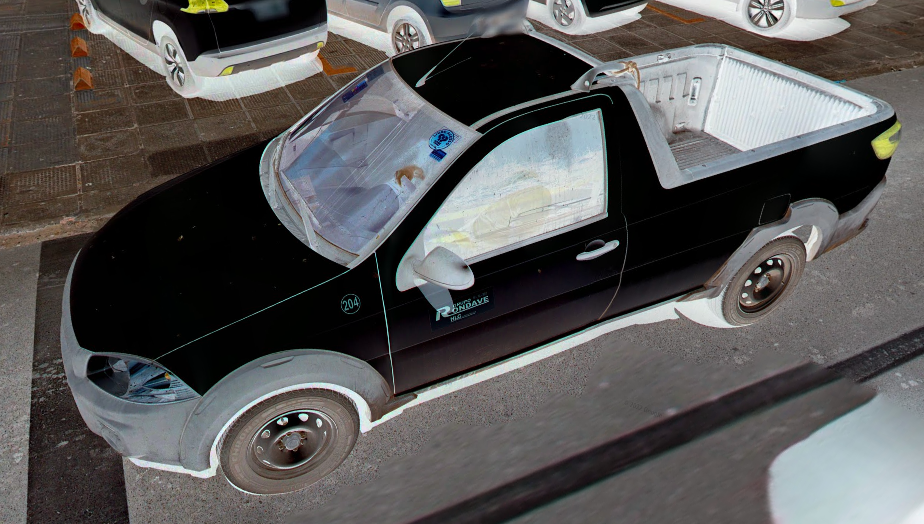car: (66, 30, 897, 499)
